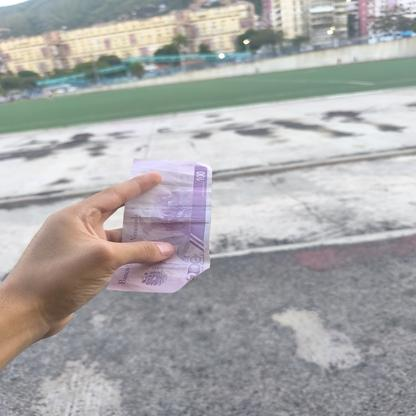one_hundred-back-vef: (106, 156, 213, 294)
